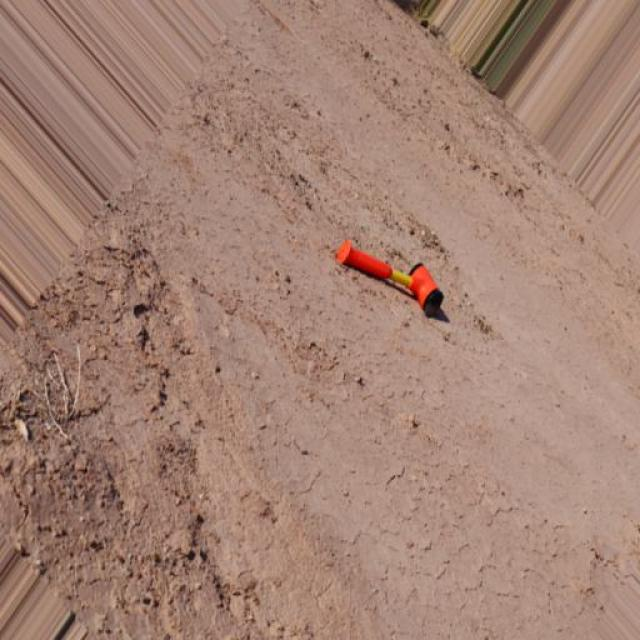mallet: (333, 238, 445, 318)
